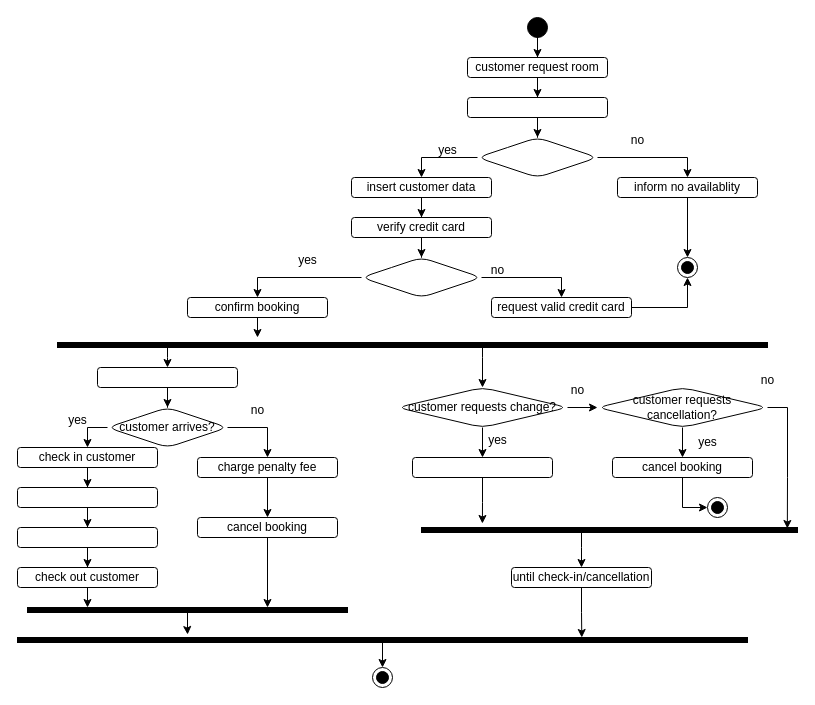
The diagram is 815 pixels wide and 705 high, and some of its shapes have lost their labels. Here are the shapes that lost their labels. From the top down, the centre of each, then its label:
At point (537, 107): "check room availablity".
At point (537, 157): "room availble?".
At point (421, 277): "credit card valid?".
At point (167, 377): "wait for custom arrival".
At point (482, 467): "modify reservation".
At point (87, 497): "use room".
At point (87, 537): "process room".
